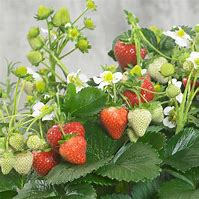Fresa: (46, 121, 87, 149), (99, 104, 130, 140), (114, 38, 146, 70), (122, 74, 155, 104), (58, 135, 89, 164), (32, 149, 61, 176)
